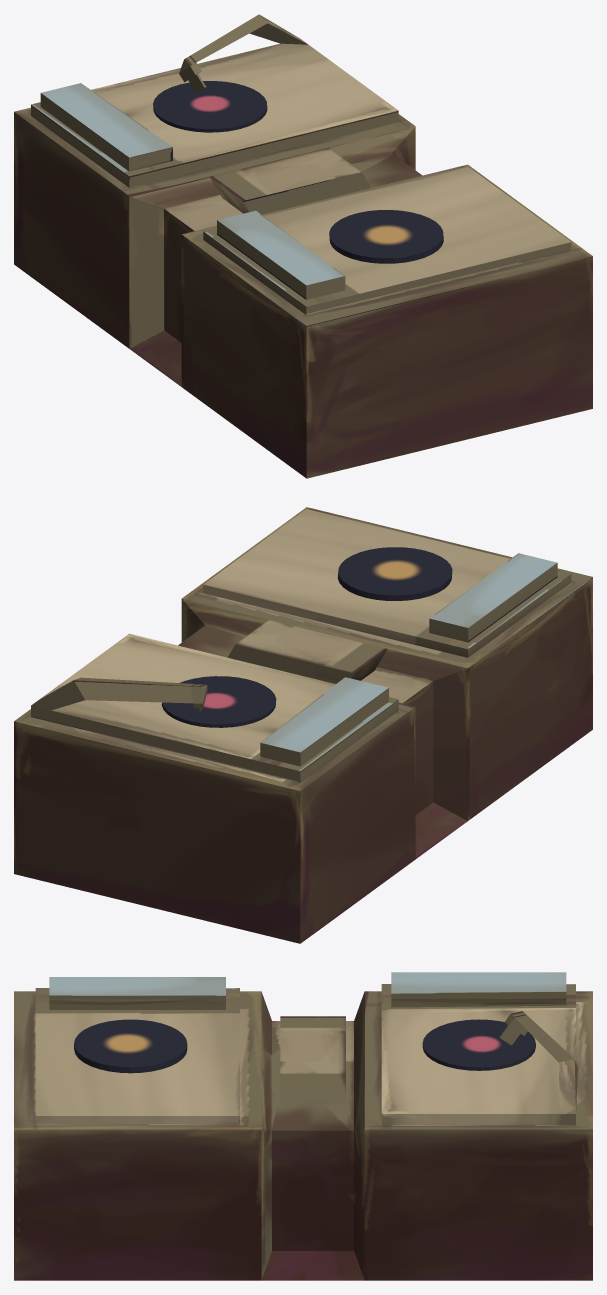
The model's file is Mesa disco.fbx.
3 views of the same model, one above another, from view 1: azimuth 30°, elevation 25°; view 2: azimuth 150°, elevation 25°; view 3: azimuth 270°, elevation 25° (orthographic).
Parts seen in each view (by area): view 1: Cube, Circle.001, Circle; view 2: Cube, Circle.001, Circle; view 3: Cube, Circle.001, Circle.
Boxes of the visible parts, x1,y1,x2,y2 form: Cube: (14,14,592,478); Circle.001: (329,210,443,263); Circle: (153,81,267,132); Cube: (14,507,592,943); Circle.001: (337,547,452,600); Circle: (161,676,276,727); Cube: (14,972,592,1280); Circle.001: (74,1019,187,1073); Circle: (422,1019,535,1070).
Size of the model in its own units: 706 by 470 by 1250.
Materials: 1 (1 with a texture image).
